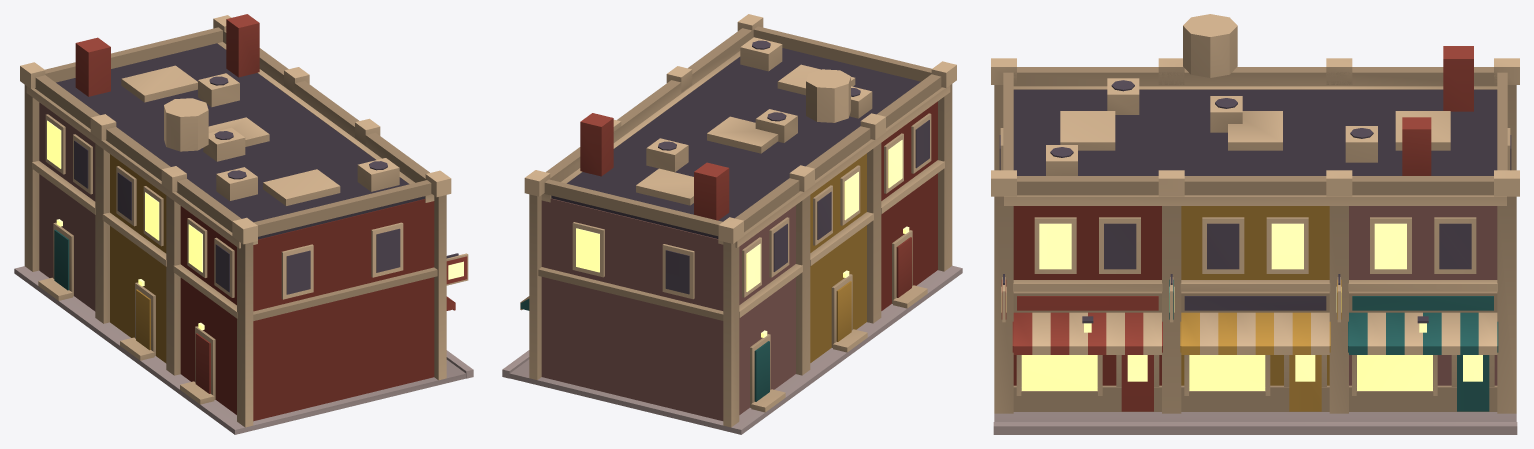
The model's file is bld.storefront-row.lod2.glb.
The picture shows the model from 3 angles, left to right: view 1: azimuth 30°, elevation 25°; view 2: azimuth 150°, elevation 25°; view 3: azimuth 270°, elevation 25°; orthographic projection. The views are drawn at different scales.
Visible parts, largest first — view 1: body; view 2: body; view 3: body.
Boxes of the visible parts, x1,y1,x2,y2 form: body: (14, 14, 473, 434); body: (502, 14, 962, 434); body: (991, 14, 1519, 434).
Size of the model in its own units: 10.1 by 10.14 by 16.4.
